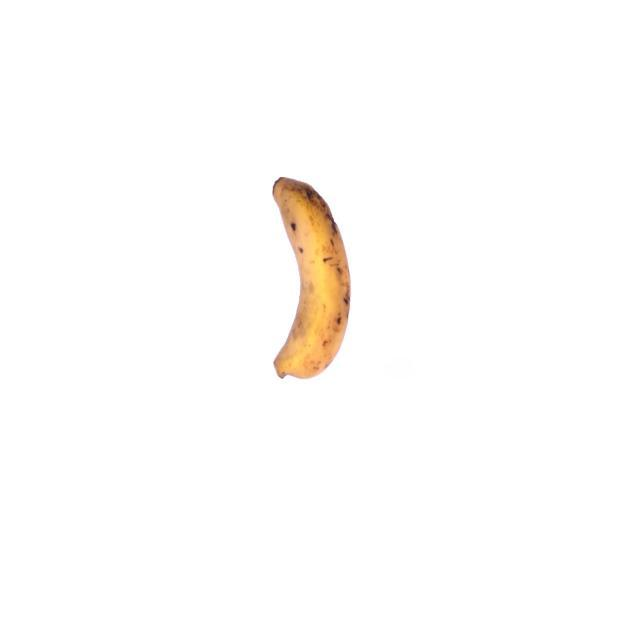banana: (269, 174, 354, 384)
